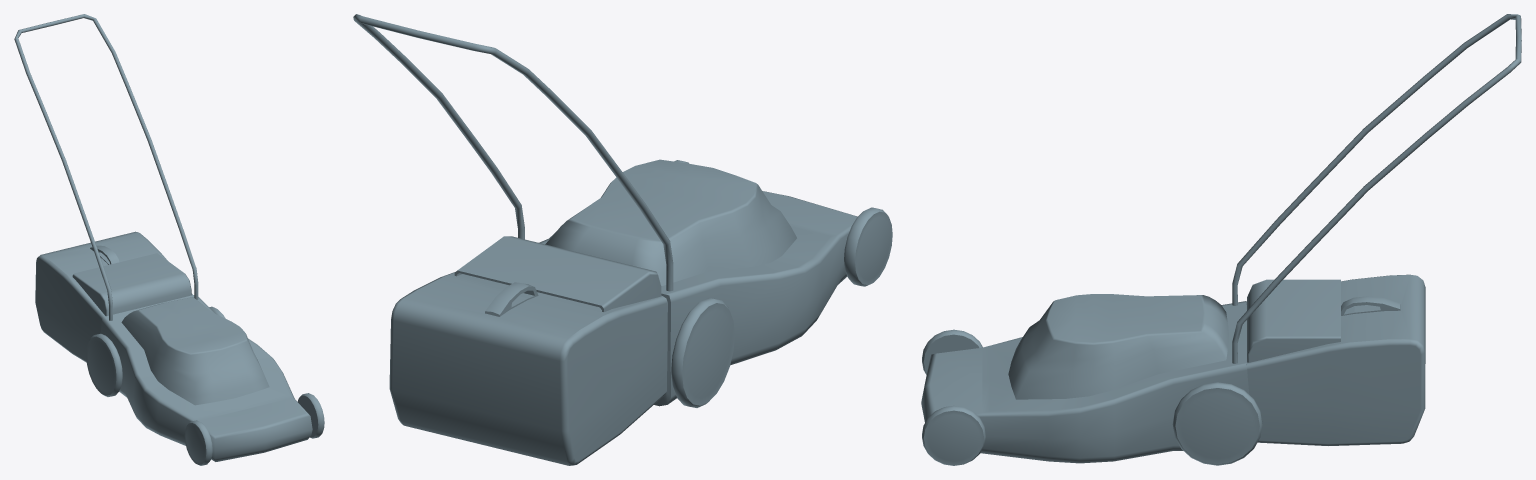
File: GrassMower.fbx
3 views of the same model, side by side, from view 1: azimuth 30°, elevation 25°; view 2: azimuth 150°, elevation 25°; view 3: azimuth 270°, elevation 25° (orthographic). The views are drawn at different scales.
Parts seen in each view (by area): view 1: GrassMower, Cover, Handle, WheelsBack1, WheelsBack2; view 2: GrassMower, Cover, Handle, WheelsBack1, WheelsBack2; view 3: GrassMower, Cover, WheelsBack1, Handle, WheelsBack2.
Boxes of the visible parts, x1=… form: GrassMower: x1=35, y1=231, x2=312, y2=461; Cover: x1=72, y1=253, x2=191, y2=316; Handle: x1=14, y1=14, x2=198, y2=320; WheelsBack1: x1=86, y1=306, x2=225, y2=396; WheelsBack2: x1=184, y1=393, x2=324, y2=465; GrassMower: x1=389, y1=159, x2=857, y2=465; Cover: x1=454, y1=236, x2=661, y2=311; Handle: x1=353, y1=14, x2=673, y2=291; WheelsBack1: x1=671, y1=298, x2=734, y2=407; WheelsBack2: x1=674, y1=160, x2=892, y2=286; GrassMower: x1=921, y1=274, x2=1425, y2=463; Cover: x1=1247, y1=279, x2=1340, y2=362; WheelsBack1: x1=1172, y1=382, x2=1262, y2=465; Handle: x1=1232, y1=14, x2=1521, y2=363; WheelsBack2: x1=922, y1=329, x2=985, y2=465.
Bounding box in the file's own units: 1.69 × 3.4 × 4.74.
